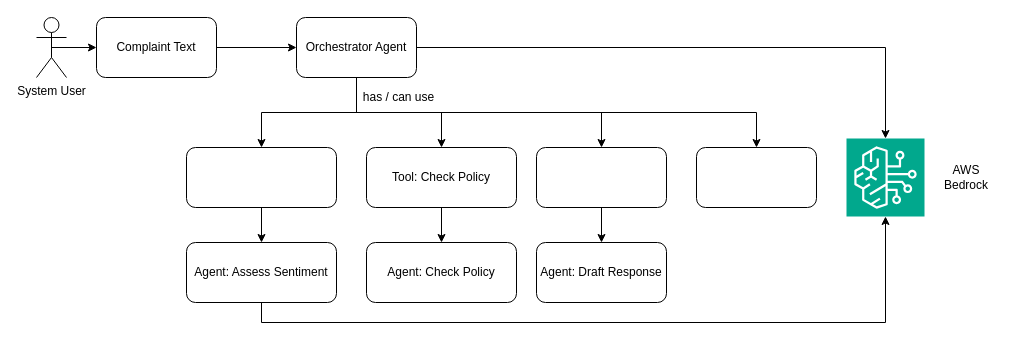
Some shapes in this 1014 by 348 pixel diagram are drawn without their labels. Each missing label, with the box of its shape:
Tool: Assess Sentiment: (186, 146, 336, 208)
Tool: Draft Response: (536, 146, 666, 208)
Tool: escalate: (696, 146, 816, 208)
